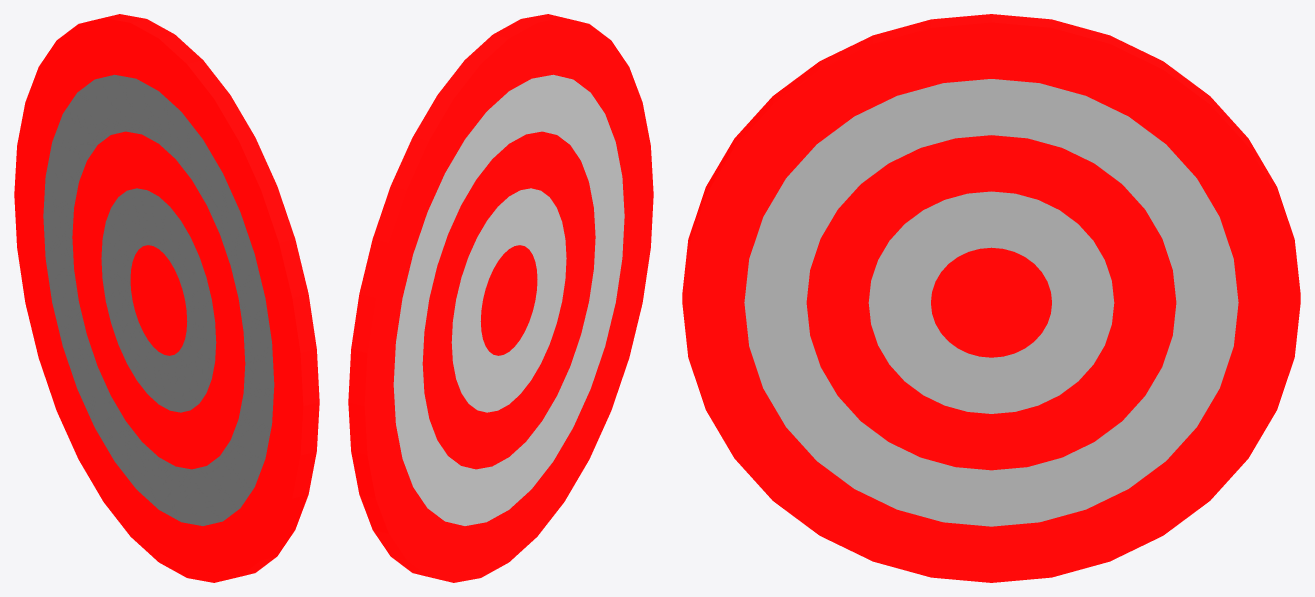
Rendered from target.fbx.
3 views of the same model, side by side, from view 1: azimuth 30°, elevation 25°; view 2: azimuth 150°, elevation 25°; view 3: azimuth 270°, elevation 25° (orthographic). The views are drawn at different scales.
Visible parts, largest first — view 1: Cylinder; view 2: Cylinder; view 3: Cylinder.
Boxes of the visible parts, x1,y1,x2,y2 form: Cylinder: (14, 14, 319, 582); Cylinder: (348, 14, 653, 582); Cylinder: (682, 14, 1300, 582).
Bounding box in the file's own units: 6.52 × 200 × 200.
